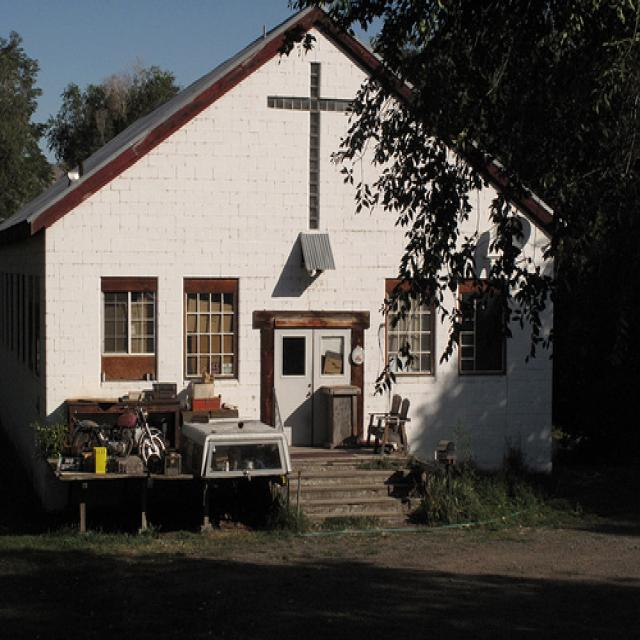motor: (64, 400, 173, 464)
